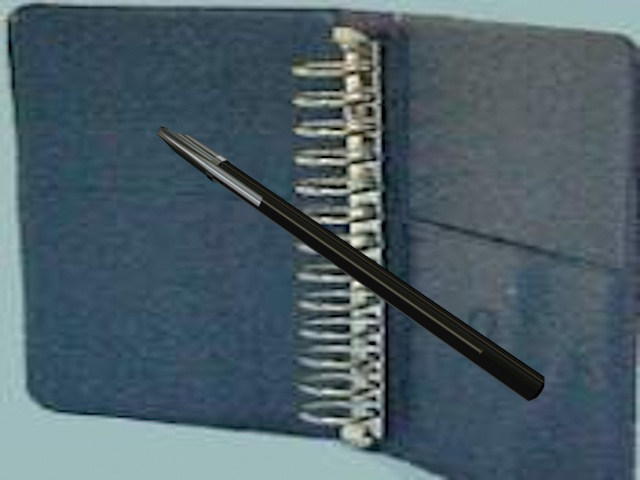pen: (145, 121, 552, 408)
